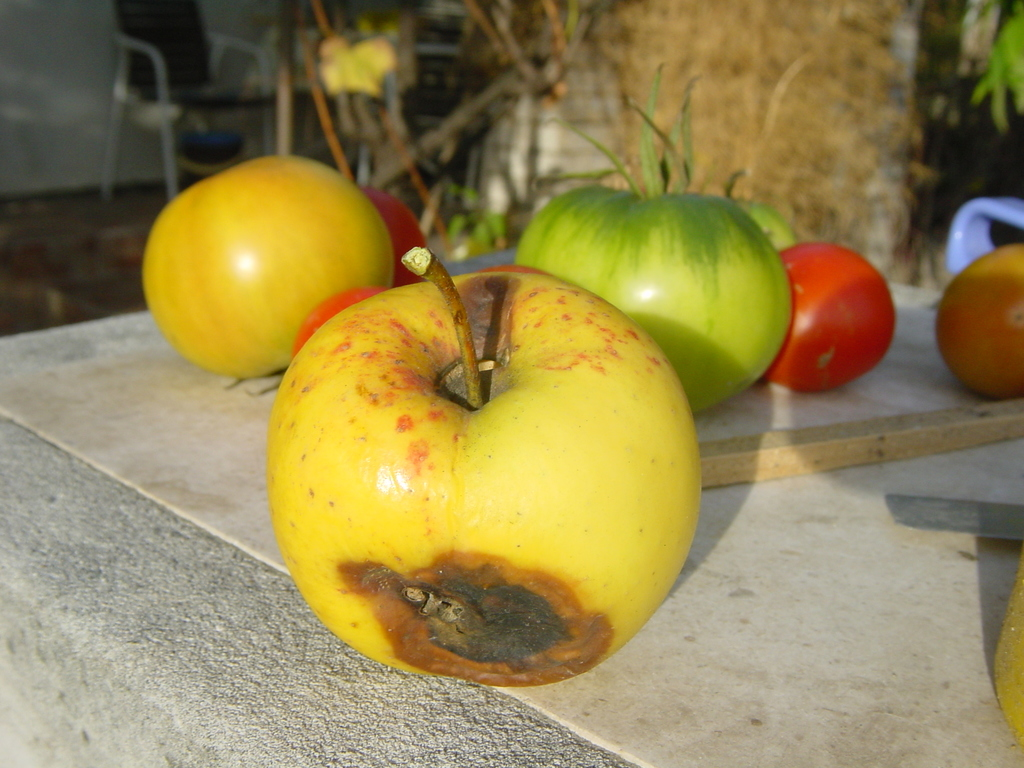Apple: (251, 248, 711, 690)
